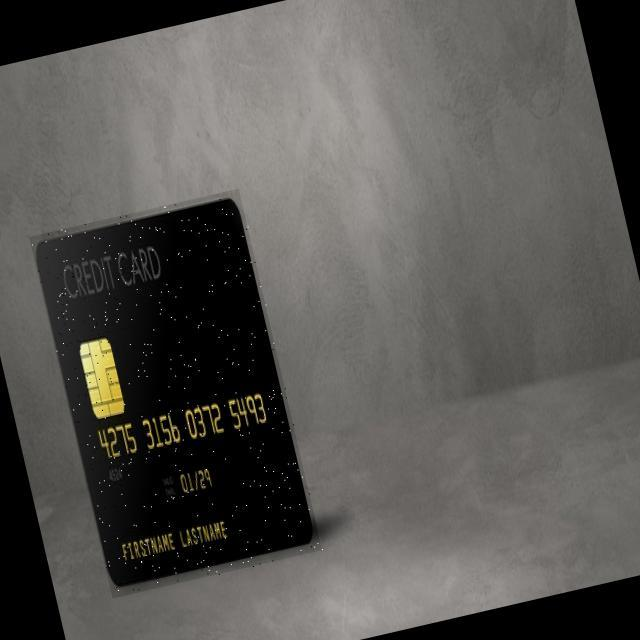payment_card: (29, 189, 314, 589)
